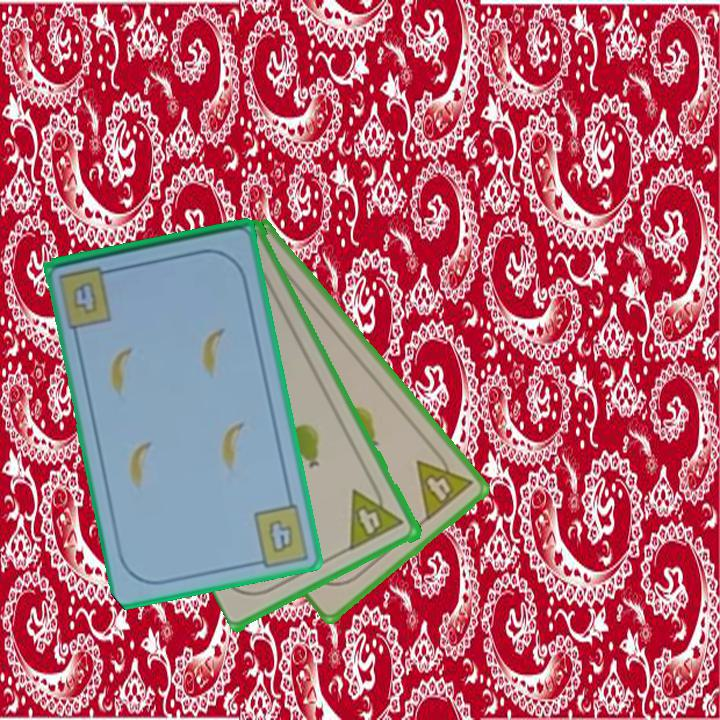4b: (249, 499, 308, 569), (69, 278, 101, 318)
4p: (412, 444, 476, 524), (346, 478, 408, 553)
